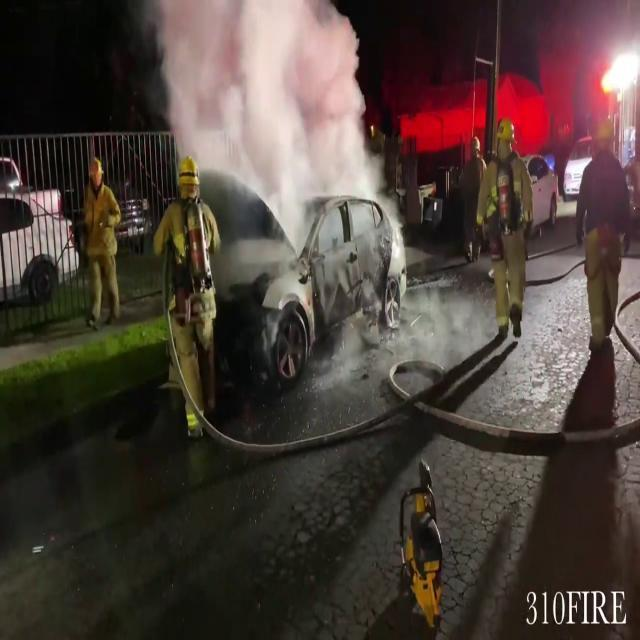Smoke: (146, 1, 392, 222)
